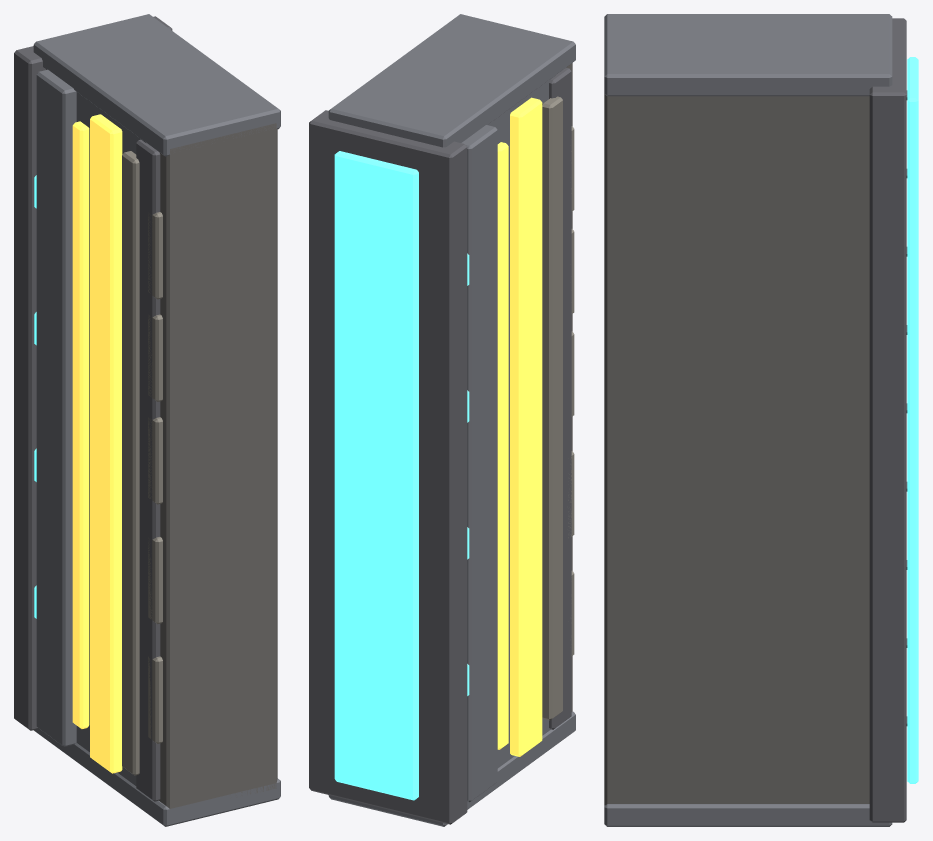
File: curb_barrier.glb
The picture shows the model from 3 angles, left to right: view 1: azimuth 30°, elevation 25°; view 2: azimuth 150°, elevation 25°; view 3: azimuth 270°, elevation 25°; orthographic projection. The views are drawn at different scales.
Parts seen in each view (by area): view 1: CurbBarrier; view 2: CurbBarrier; view 3: CurbBarrier.
Part boxes in pixels (x1,y1,x2,y2): CurbBarrier: (14,14,280,826); CurbBarrier: (309,14,575,826); CurbBarrier: (604,14,918,826).
Bounding box in the file's own units: 0.88 × 4.04 × 1.53.
